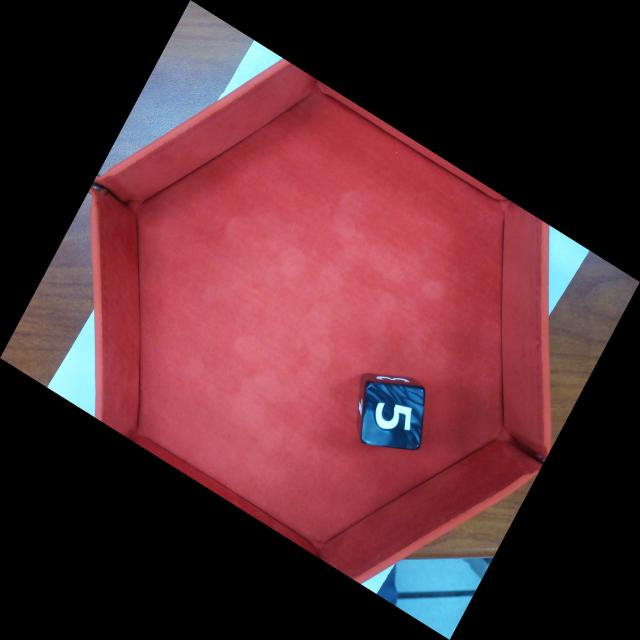dice: (360, 380, 426, 452)
